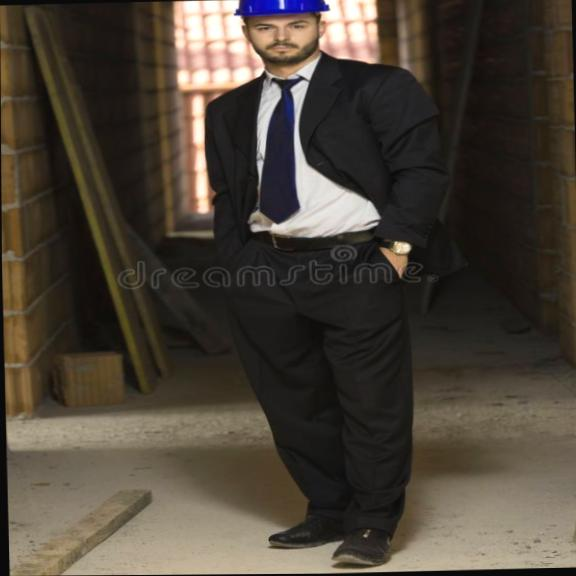no_safety_vest: (204, 60, 442, 261)
